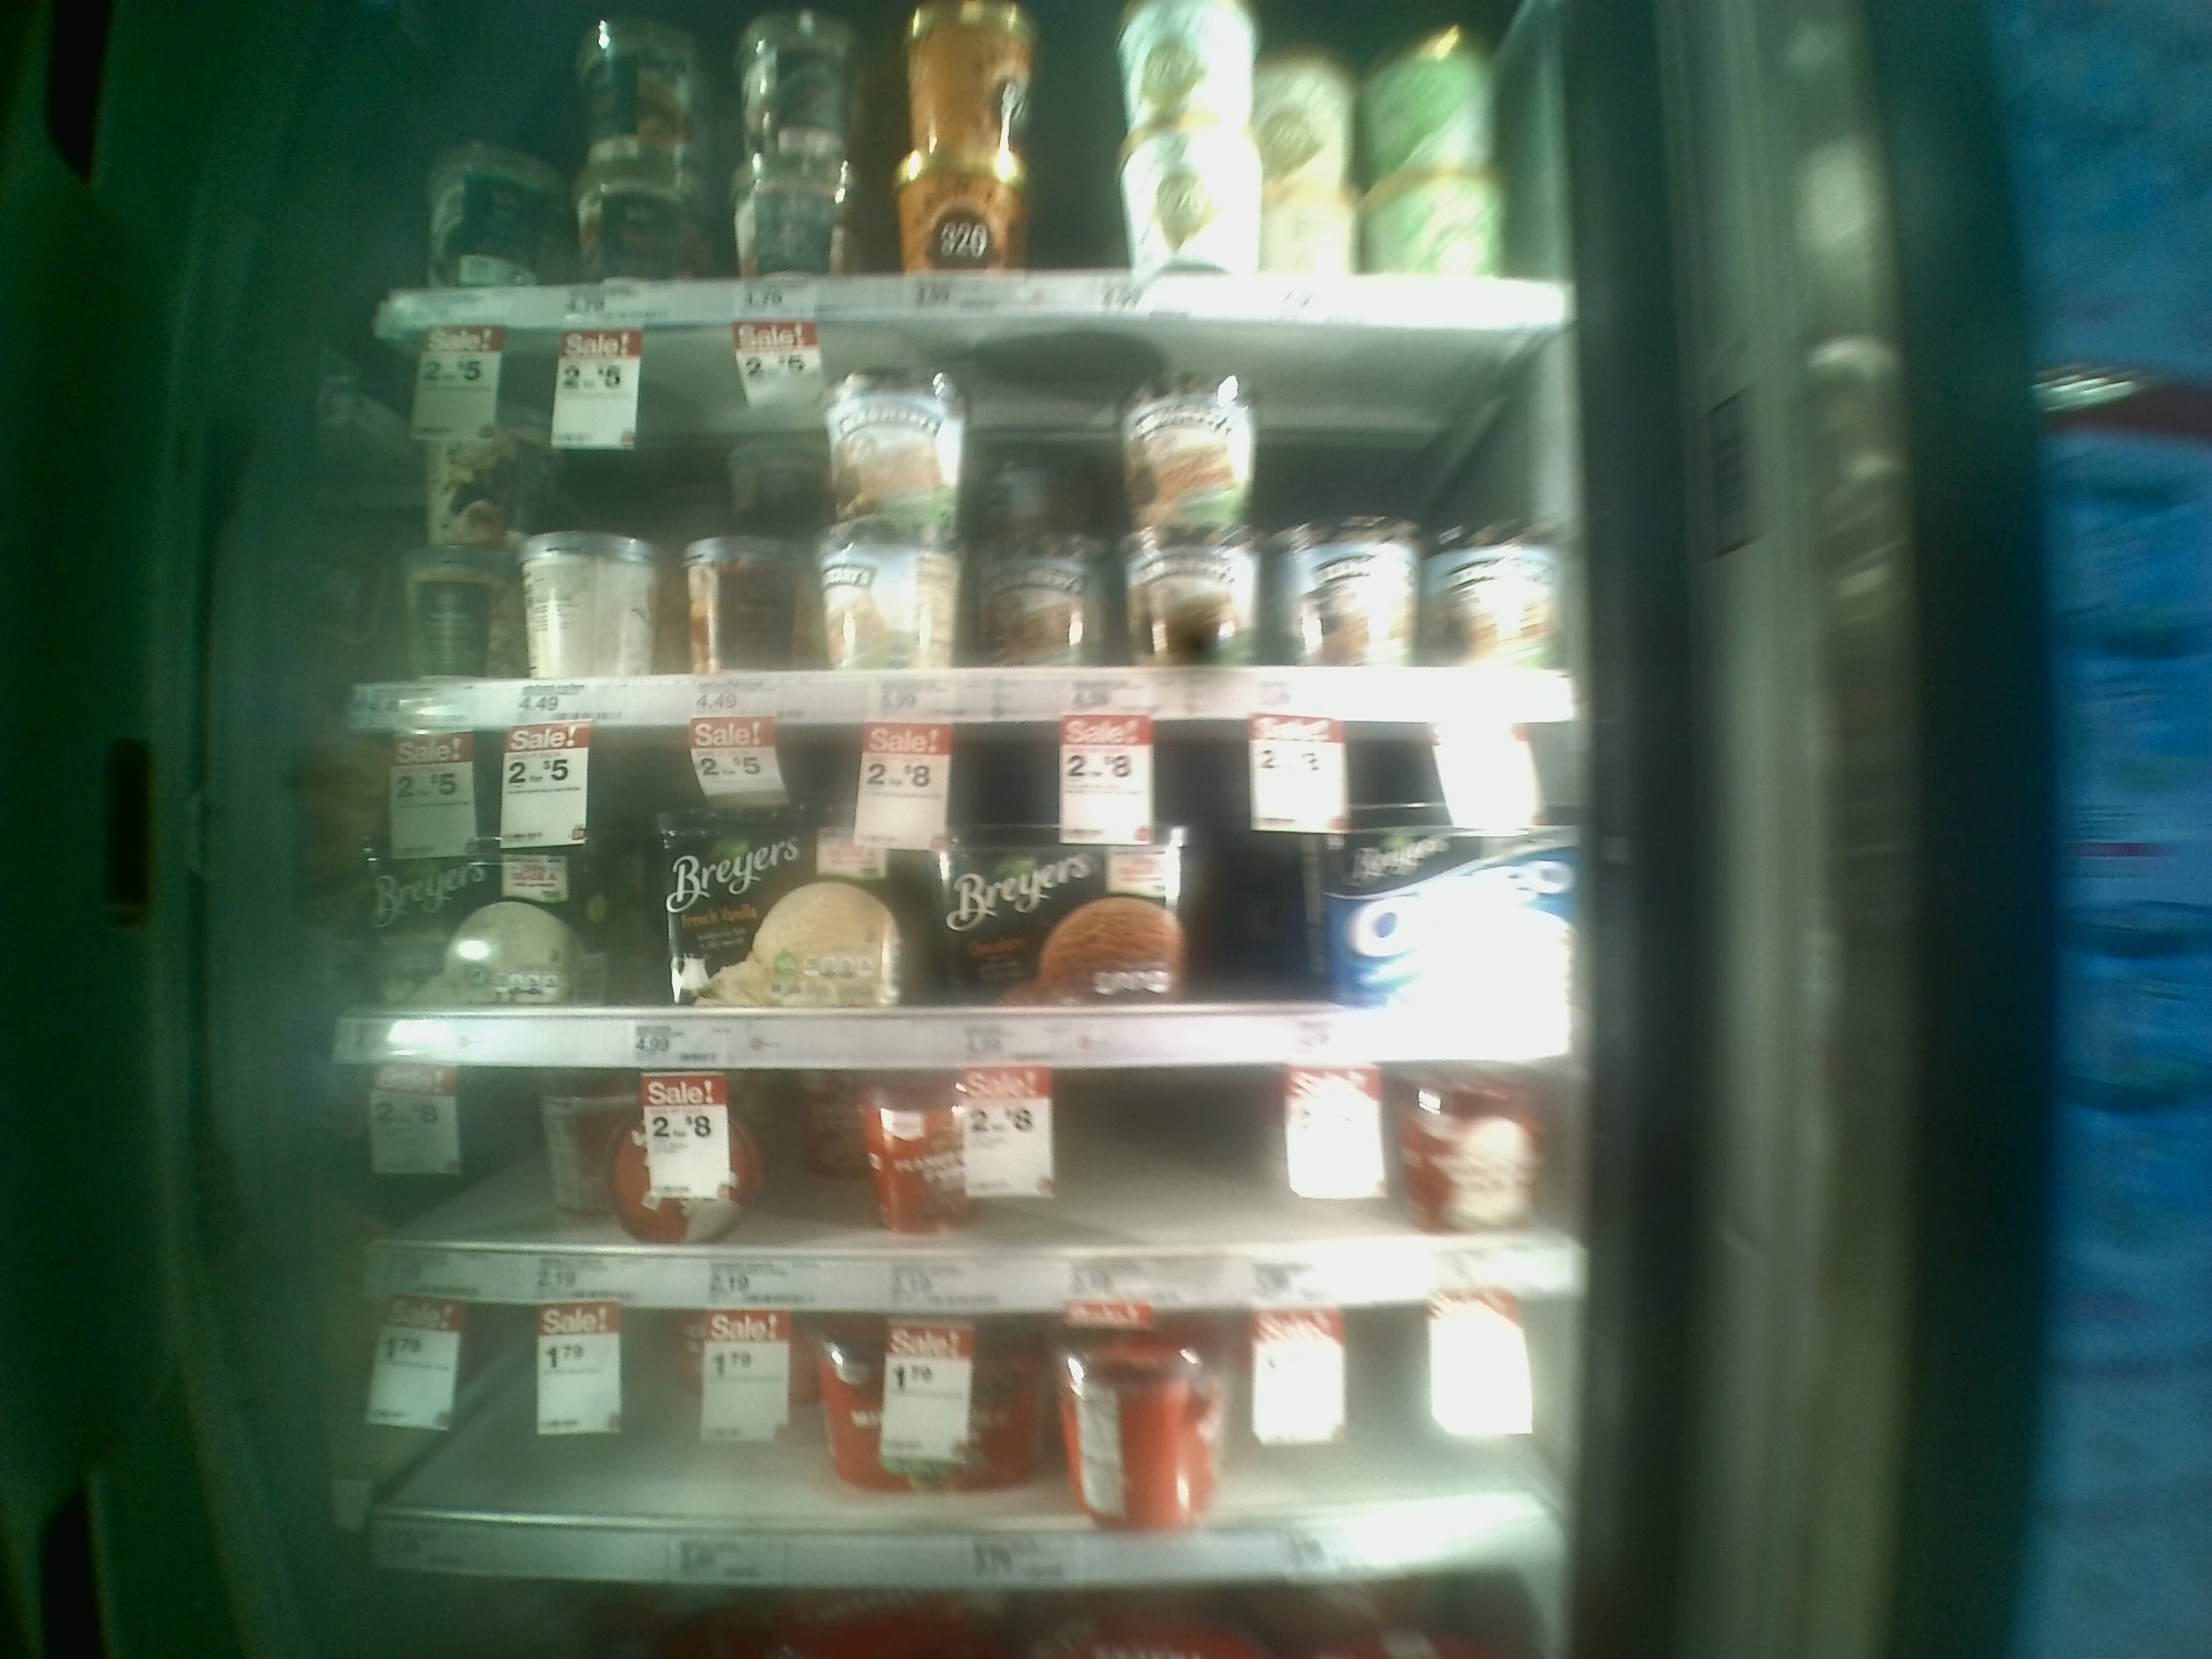ice-cream-shelf: (348, 708, 1581, 1063)
